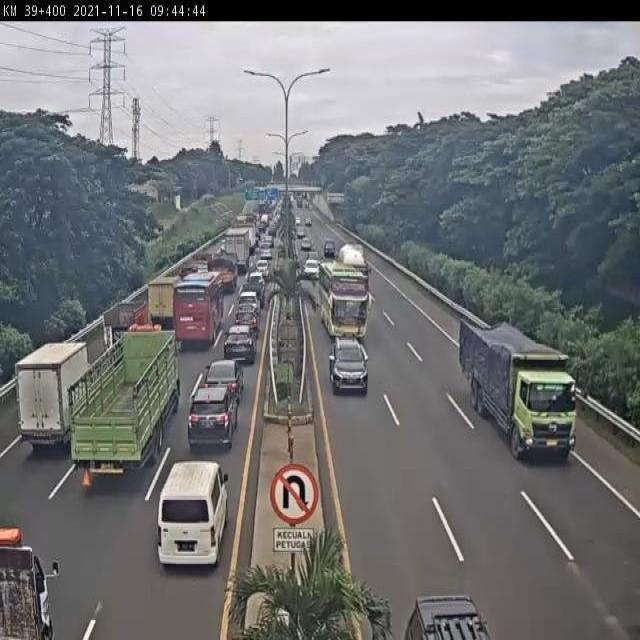big bus: (316, 260, 371, 341), (167, 272, 217, 352)
car: (188, 386, 236, 451), (328, 333, 368, 392), (204, 361, 245, 403), (221, 329, 253, 368), (232, 308, 259, 335), (236, 288, 261, 316)
small bus: (155, 460, 226, 567)
small truck: (146, 276, 180, 332), (207, 256, 243, 296)
truck-l-: (460, 317, 582, 467), (71, 325, 179, 464)
truck-m-: (11, 342, 87, 454), (100, 304, 148, 353)
